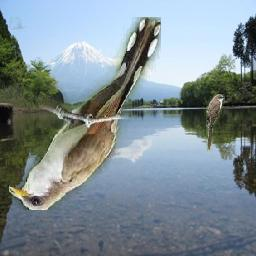Cuckoo: (9, 18, 161, 211), (207, 95, 226, 152)
